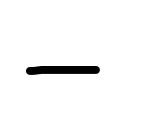minus: (26, 66, 100, 75)
